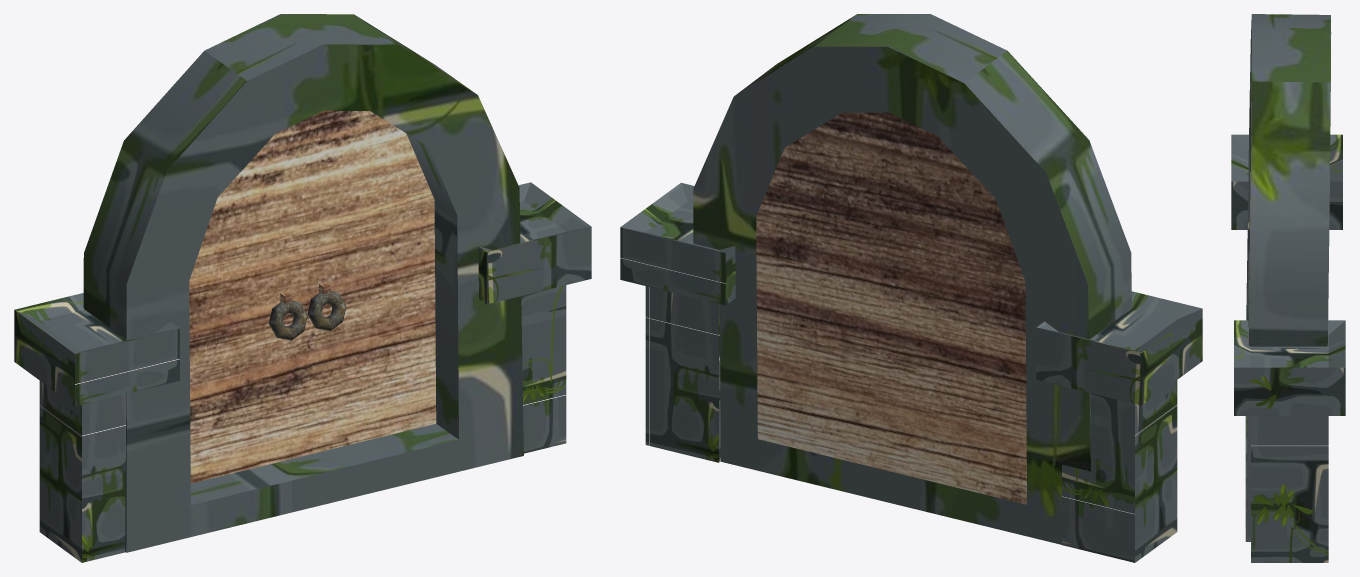
The model's file is Start_Door.fbx.
3 views of the same model, side by side, from view 1: azimuth 30°, elevation 25°; view 2: azimuth 150°, elevation 25°; view 3: azimuth 270°, elevation 25° (orthographic). The views are drawn at different scales.
Visible parts, largest first — view 1: pCube1, pCube4, pCube6, pTorus2, pTorus1; view 2: pCube1, pCube4, pCube6; view 3: pCube1, pCube6, pCube4.
Part boxes in pixels (<box>): pCube1: <box>83,14,523,552</box>; pCube4: <box>14,293,179,562</box>; pCube6: <box>478,182,591,453</box>; pTorus2: <box>307,291,346,331</box>; pTorus1: <box>269,300,307,340</box>; pCube1: <box>693,14,1131,544</box>; pCube4: <box>1036,291,1202,562</box>; pCube6: <box>620,182,735,462</box>; pCube1: <box>1245,14,1331,541</box>; pCube6: <box>1234,320,1345,562</box>; pCube4: <box>1231,134,1342,229</box>.
Bounding box in the file's own units: 7.1 × 6 × 1.47.
4 materials, 4 textured.
